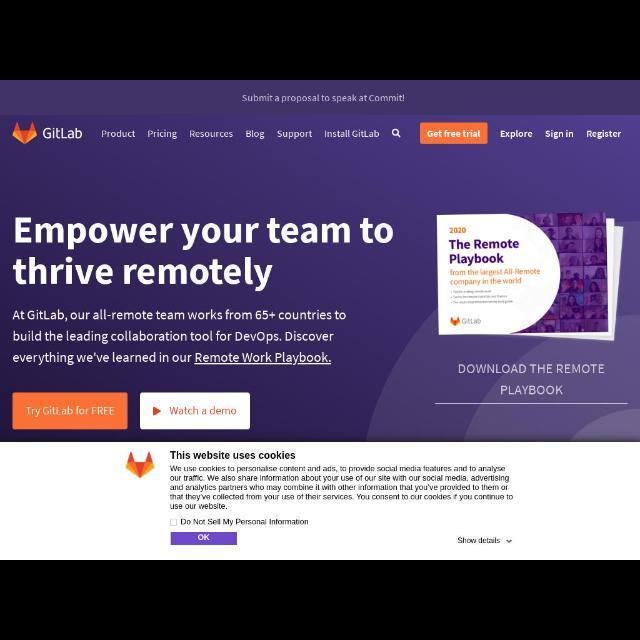checkbox: (172, 518, 176, 526)
icon: (390, 128, 402, 138), (151, 406, 161, 416), (506, 540, 512, 544)
image: (437, 214, 625, 342), (125, 452, 155, 478), (12, 124, 38, 144)
spinner: (458, 536, 512, 546)
text: (15, 216, 395, 290), (11, 310, 346, 370), (170, 466, 514, 512), (458, 362, 604, 396), (241, 92, 405, 105), (168, 450, 294, 460), (24, 405, 114, 415), (180, 518, 310, 524), (170, 406, 237, 416), (428, 130, 482, 140), (322, 130, 380, 138), (188, 129, 234, 139), (44, 127, 82, 139), (148, 128, 178, 140), (457, 536, 501, 544), (544, 130, 574, 140), (101, 130, 137, 138), (277, 130, 313, 138), (586, 131, 620, 139), (500, 130, 532, 138), (245, 129, 265, 141), (197, 533, 211, 541)
textbutton: (12, 394, 128, 431), (140, 394, 250, 428), (420, 124, 488, 142), (171, 532, 237, 544)
